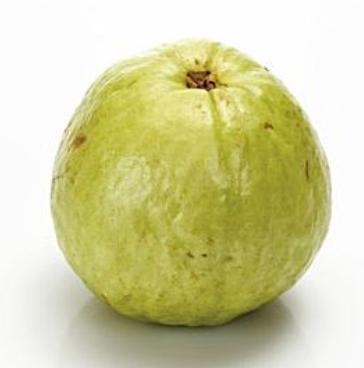guava_B: (50, 38, 332, 328)
